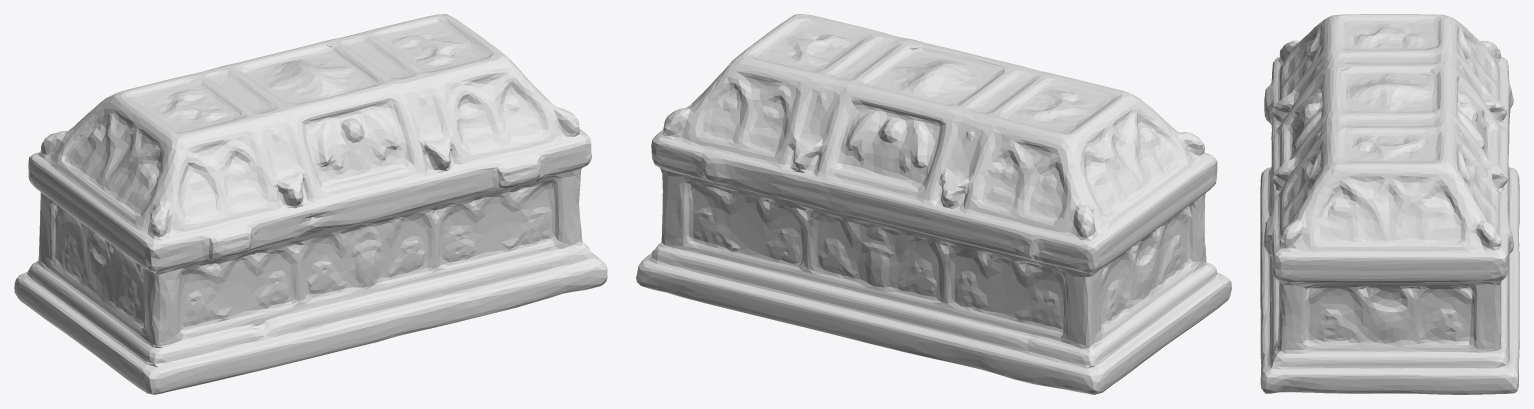
The model's file is orn_sarcophagus01.glb.
3 renders of one model, left to right at view 1: azimuth 30°, elevation 25°; view 2: azimuth 150°, elevation 25°; view 3: azimuth 270°, elevation 25°, orthographic. The views are drawn at different scales.
Parts seen in each view (by area): view 1: Low; view 2: Low; view 3: Low.
Boxes of the visible parts, x1,y1,x2,y2 form: Low: [14, 14, 607, 394]; Low: [636, 14, 1231, 394]; Low: [1260, 14, 1519, 394].
Bounding box in the file's own units: 1.99 × 0.9172 × 1.04.
1 material, 1 textured.
